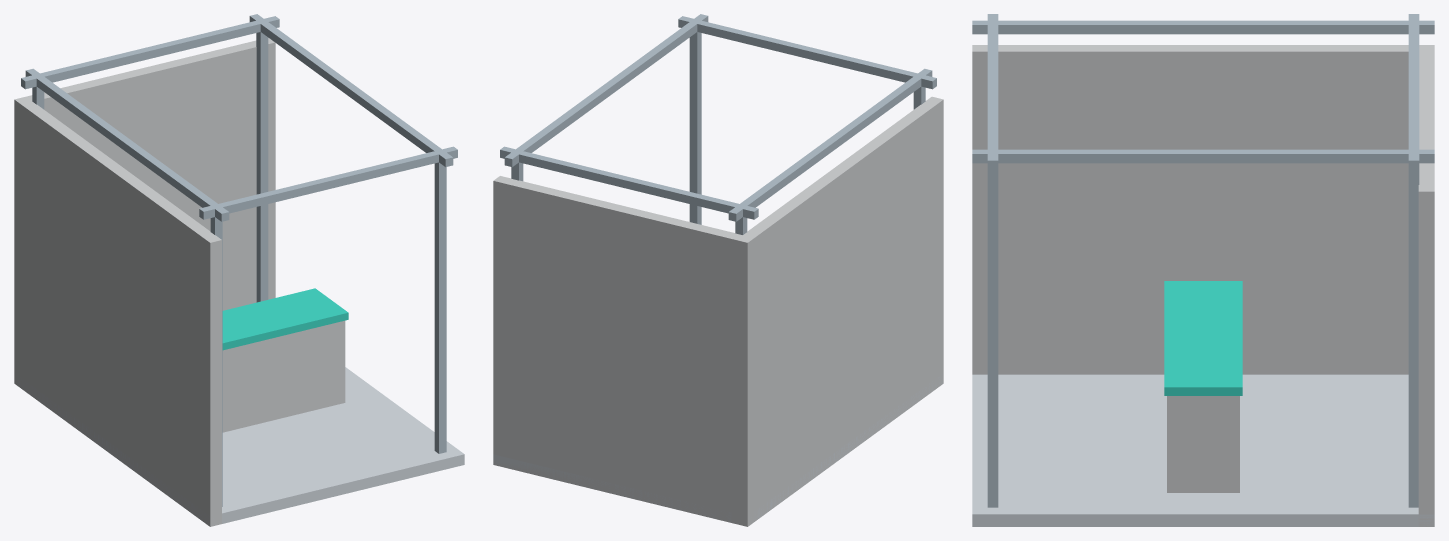
3 views of the same model, side by side, from view 1: azimuth 30°, elevation 25°; view 2: azimuth 150°, elevation 25°; view 3: azimuth 270°, elevation 25° (orthographic). The views are drawn at different scales.
Parts seen in each view (by area): view 1: Exhibition Booth Concept; view 2: Exhibition Booth Concept; view 3: Exhibition Booth Concept.
Part boxes in pixels (box(x1,y1,x2,y2)): Exhibition Booth Concept: box(14, 14, 464, 526); Exhibition Booth Concept: box(493, 14, 943, 526); Exhibition Booth Concept: box(972, 14, 1434, 526).
Size of the model in its own units: 3 by 3.49 by 4.
